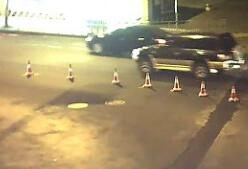car: (132, 30, 244, 80), (83, 24, 179, 57)
